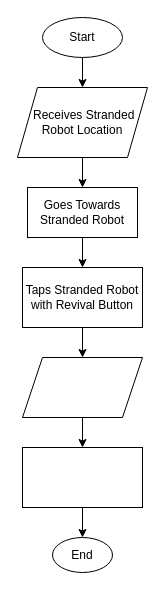
This 165x590 diagram has some shape labels left out. The shapes that lost their labels are listed below. From the top down, each one's box as (x1, y1, x2, y2) in pixels, then its label:
(22, 356, 142, 418): LED Turns Green For 3s
(22, 446, 142, 508): Continues Original Task
